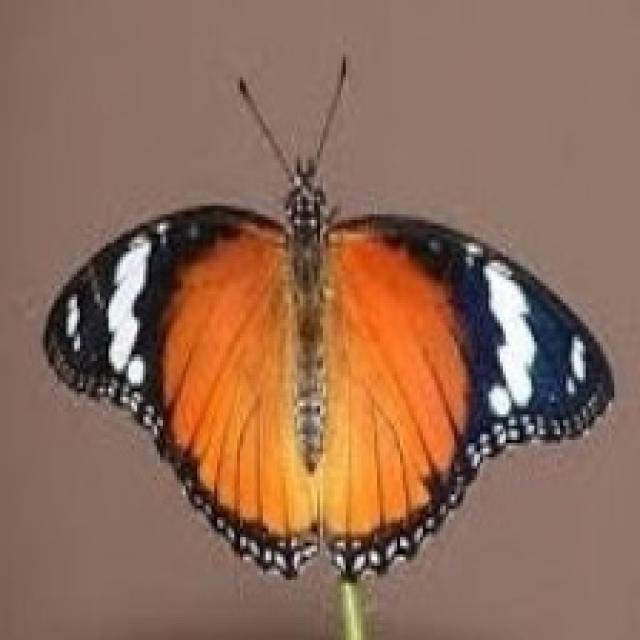butterfly: (40, 51, 614, 583)
